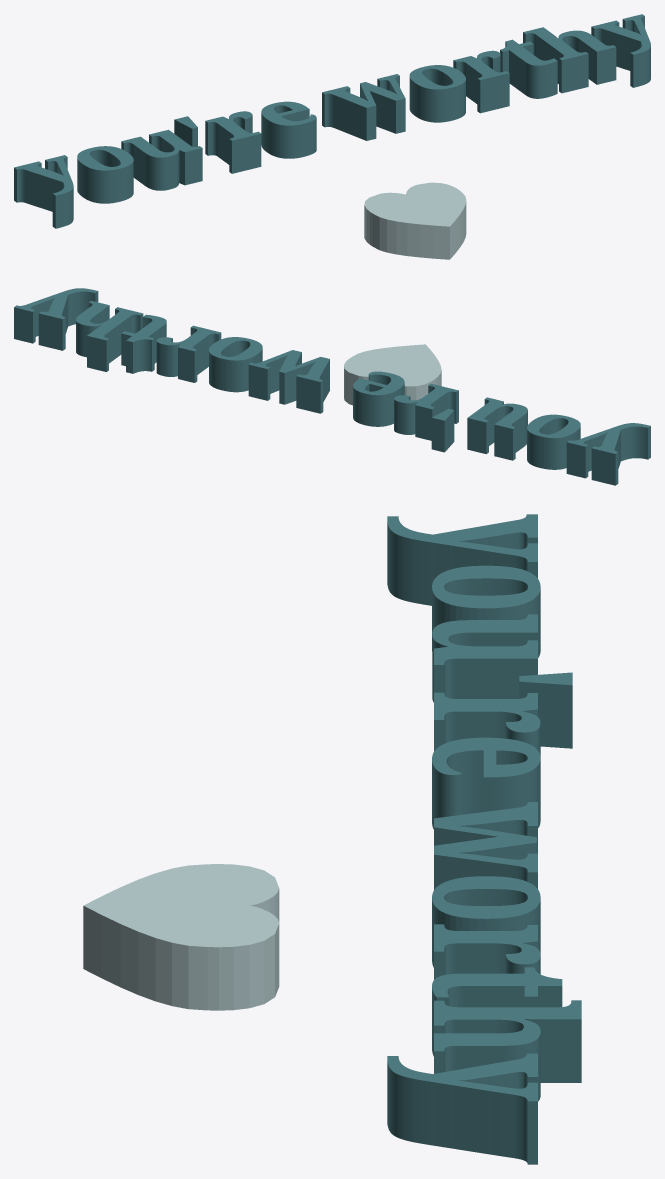
File: teamo.glb
3 views of the same model, one above another, from view 1: azimuth 30°, elevation 25°; view 2: azimuth 150°, elevation 25°; view 3: azimuth 270°, elevation 25° (orthographic). The views are drawn at different scales.
Parts seen in each view (by area): view 1: Mesh_Mesh_head_geo.001_lambert2SG.001; view 2: Mesh_Mesh_head_geo.001_lambert2SG.001; view 3: Mesh_Mesh_head_geo.001_lambert2SG.001.
Part boxes in pixels (bbox=[...]): Mesh_Mesh_head_geo.001_lambert2SG.001: bbox=[14, 14, 650, 259]; Mesh_Mesh_head_geo.001_lambert2SG.001: bbox=[14, 288, 650, 485]; Mesh_Mesh_head_geo.001_lambert2SG.001: bbox=[83, 514, 581, 1164].
Bounding box in the file's own units: 1.99 × 0.25 × 0.7121.
